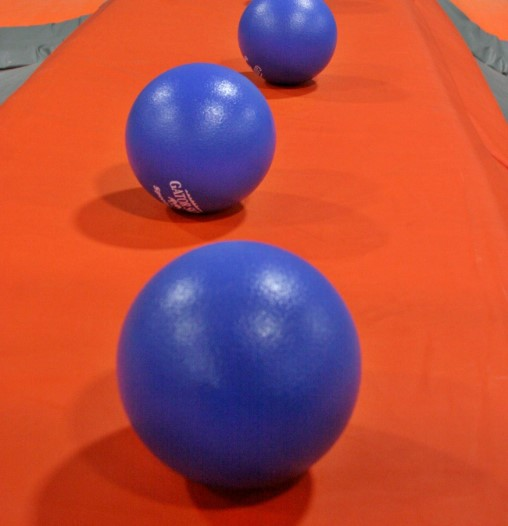blue ball: (115, 241, 362, 492), (125, 62, 276, 215), (236, 1, 338, 85)
